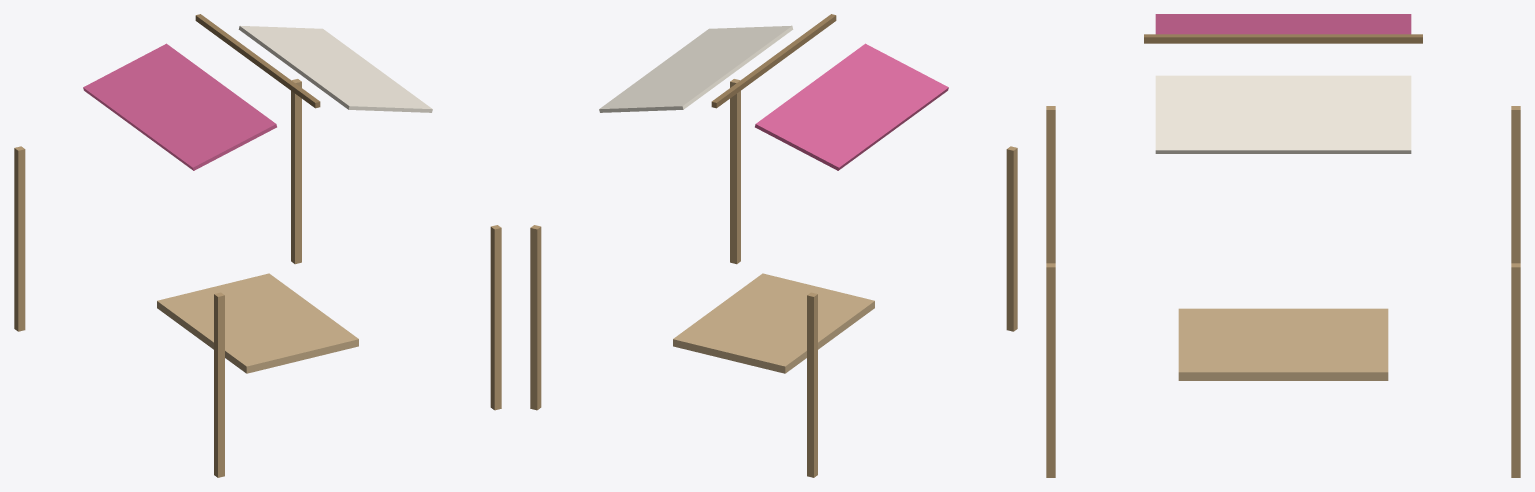
File: Market_Tent_1.glb
3 views of the same model, side by side, from view 1: azimuth 30°, elevation 25°; view 2: azimuth 150°, elevation 25°; view 3: azimuth 270°, elevation 25° (orthographic). The views are drawn at different scales.
Parts seen in each view (by area): view 1: Market_Tent_1; view 2: Market_Tent_1; view 3: Market_Tent_1.
Part boxes in pixels (x1=…): Market_Tent_1: x1=14, y1=14, x2=501, y2=477; Market_Tent_1: x1=530, y1=14, x2=1017, y2=477; Market_Tent_1: x1=1046, y1=14, x2=1520, y2=477.
Size of the model in its own units: 1.64 by 1.72 by 2.04.
